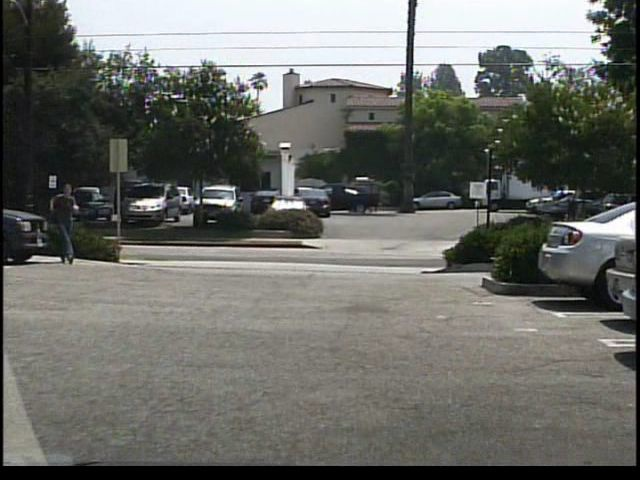person: (48, 179, 84, 265)
